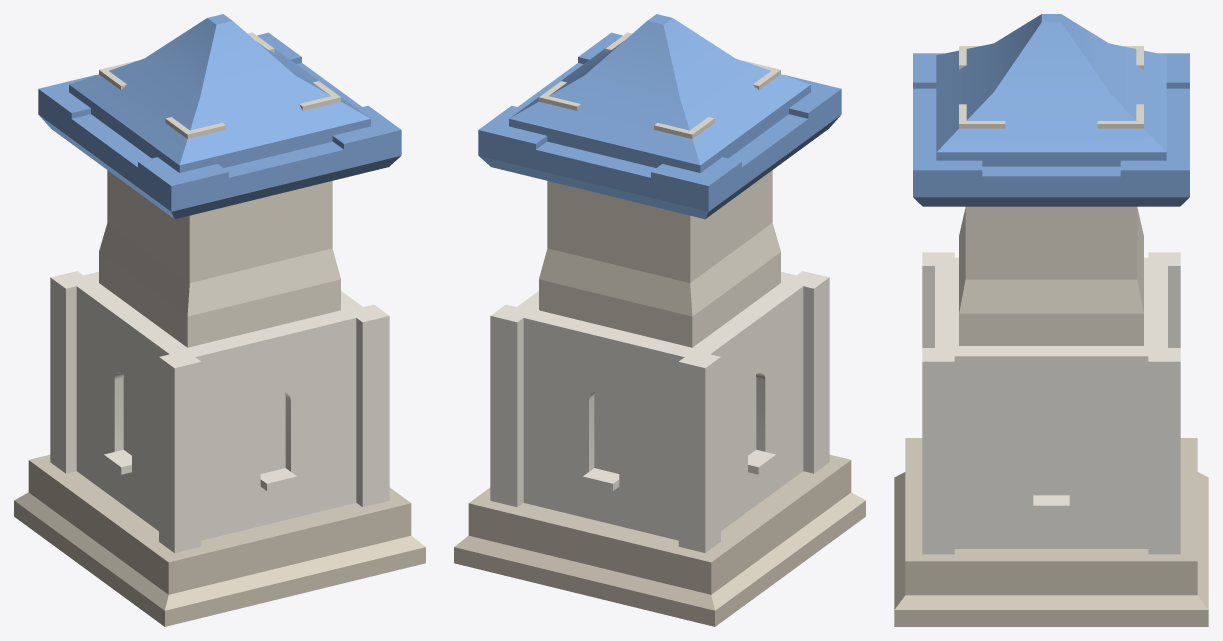
Rendered from european-spire.glb.
The picture shows the model from 3 angles, left to right: view 1: azimuth 30°, elevation 25°; view 2: azimuth 150°, elevation 25°; view 3: azimuth 270°, elevation 25°; orthographic projection. The views are drawn at different scales.
Parts seen in each view (by area): view 1: body; view 2: body; view 3: body.
Boxes of the visible parts, left/top/right/bottom form: body: left=14, top=14, right=425, bottom=626; body: left=454, top=14, right=865, bottom=626; body: left=894, top=14, right=1208, bottom=626.
Size of the model in its own units: 0.85 by 1.62 by 0.85.
